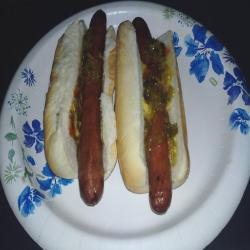hotdog: (41, 6, 129, 213), (110, 13, 197, 221)
